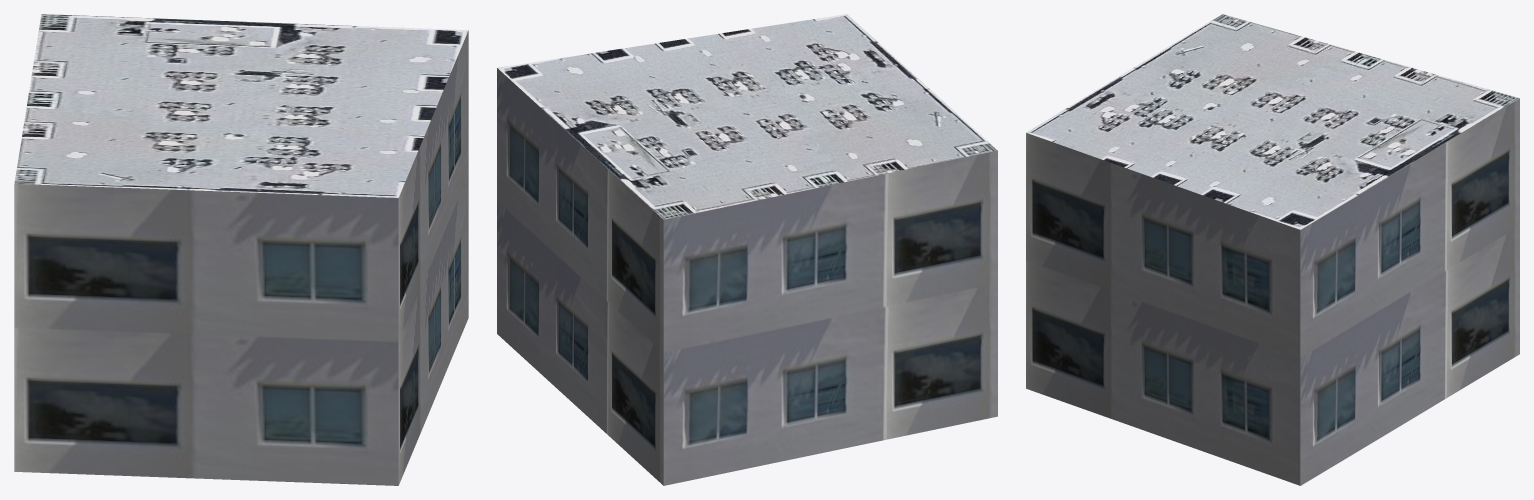
The model's file is ResTex__3069.fbx.
3 views of the same model, side by side, from view 1: azimuth 30°, elevation 25°; view 2: azimuth 150°, elevation 25°; view 3: azimuth 270°, elevation 25° (orthographic). The views are drawn at different scales.
Parts seen in each view (by area): view 1: CityEngineMaterial_10_m, CityEngineMaterial_2_m; view 2: CityEngineMaterial_10_m, CityEngineMaterial_2_m; view 3: CityEngineMaterial_10_m, CityEngineMaterial_2_m.
Part boxes in pixels (<box>): CityEngineMaterial_10_m: <box>14,30,468,485</box>; CityEngineMaterial_2_m: <box>14,14,468,197</box>; CityEngineMaterial_10_m: <box>497,68,997,485</box>; CityEngineMaterial_2_m: <box>497,14,997,219</box>; CityEngineMaterial_10_m: <box>1026,98,1519,485</box>; CityEngineMaterial_2_m: <box>1026,14,1519,229</box>.
Size of the model in its own units: 10.86 by 6 by 10.49.
2 materials, 2 textured.
